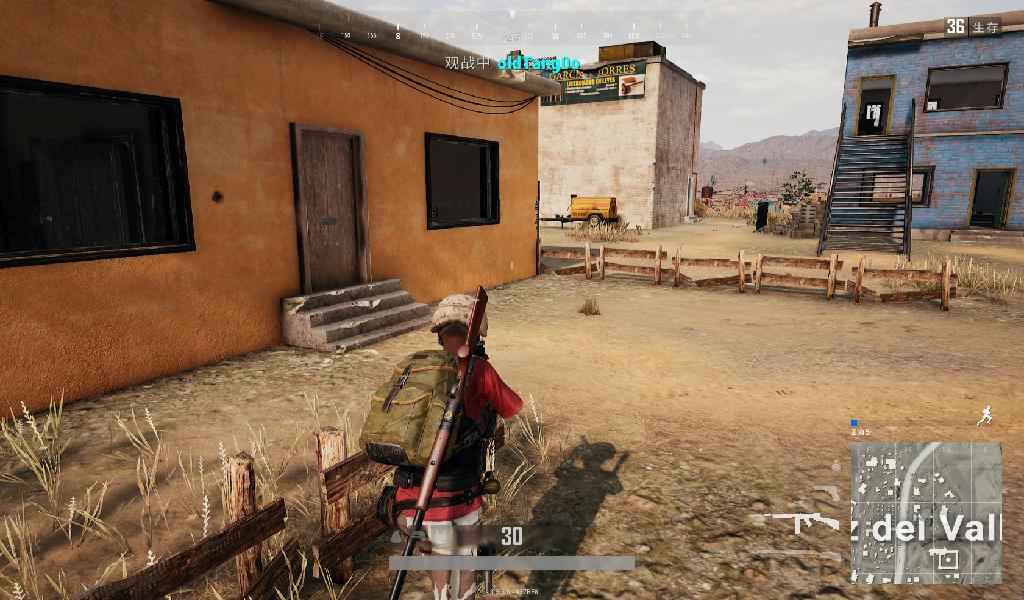Target Person: (360, 286, 525, 600)
